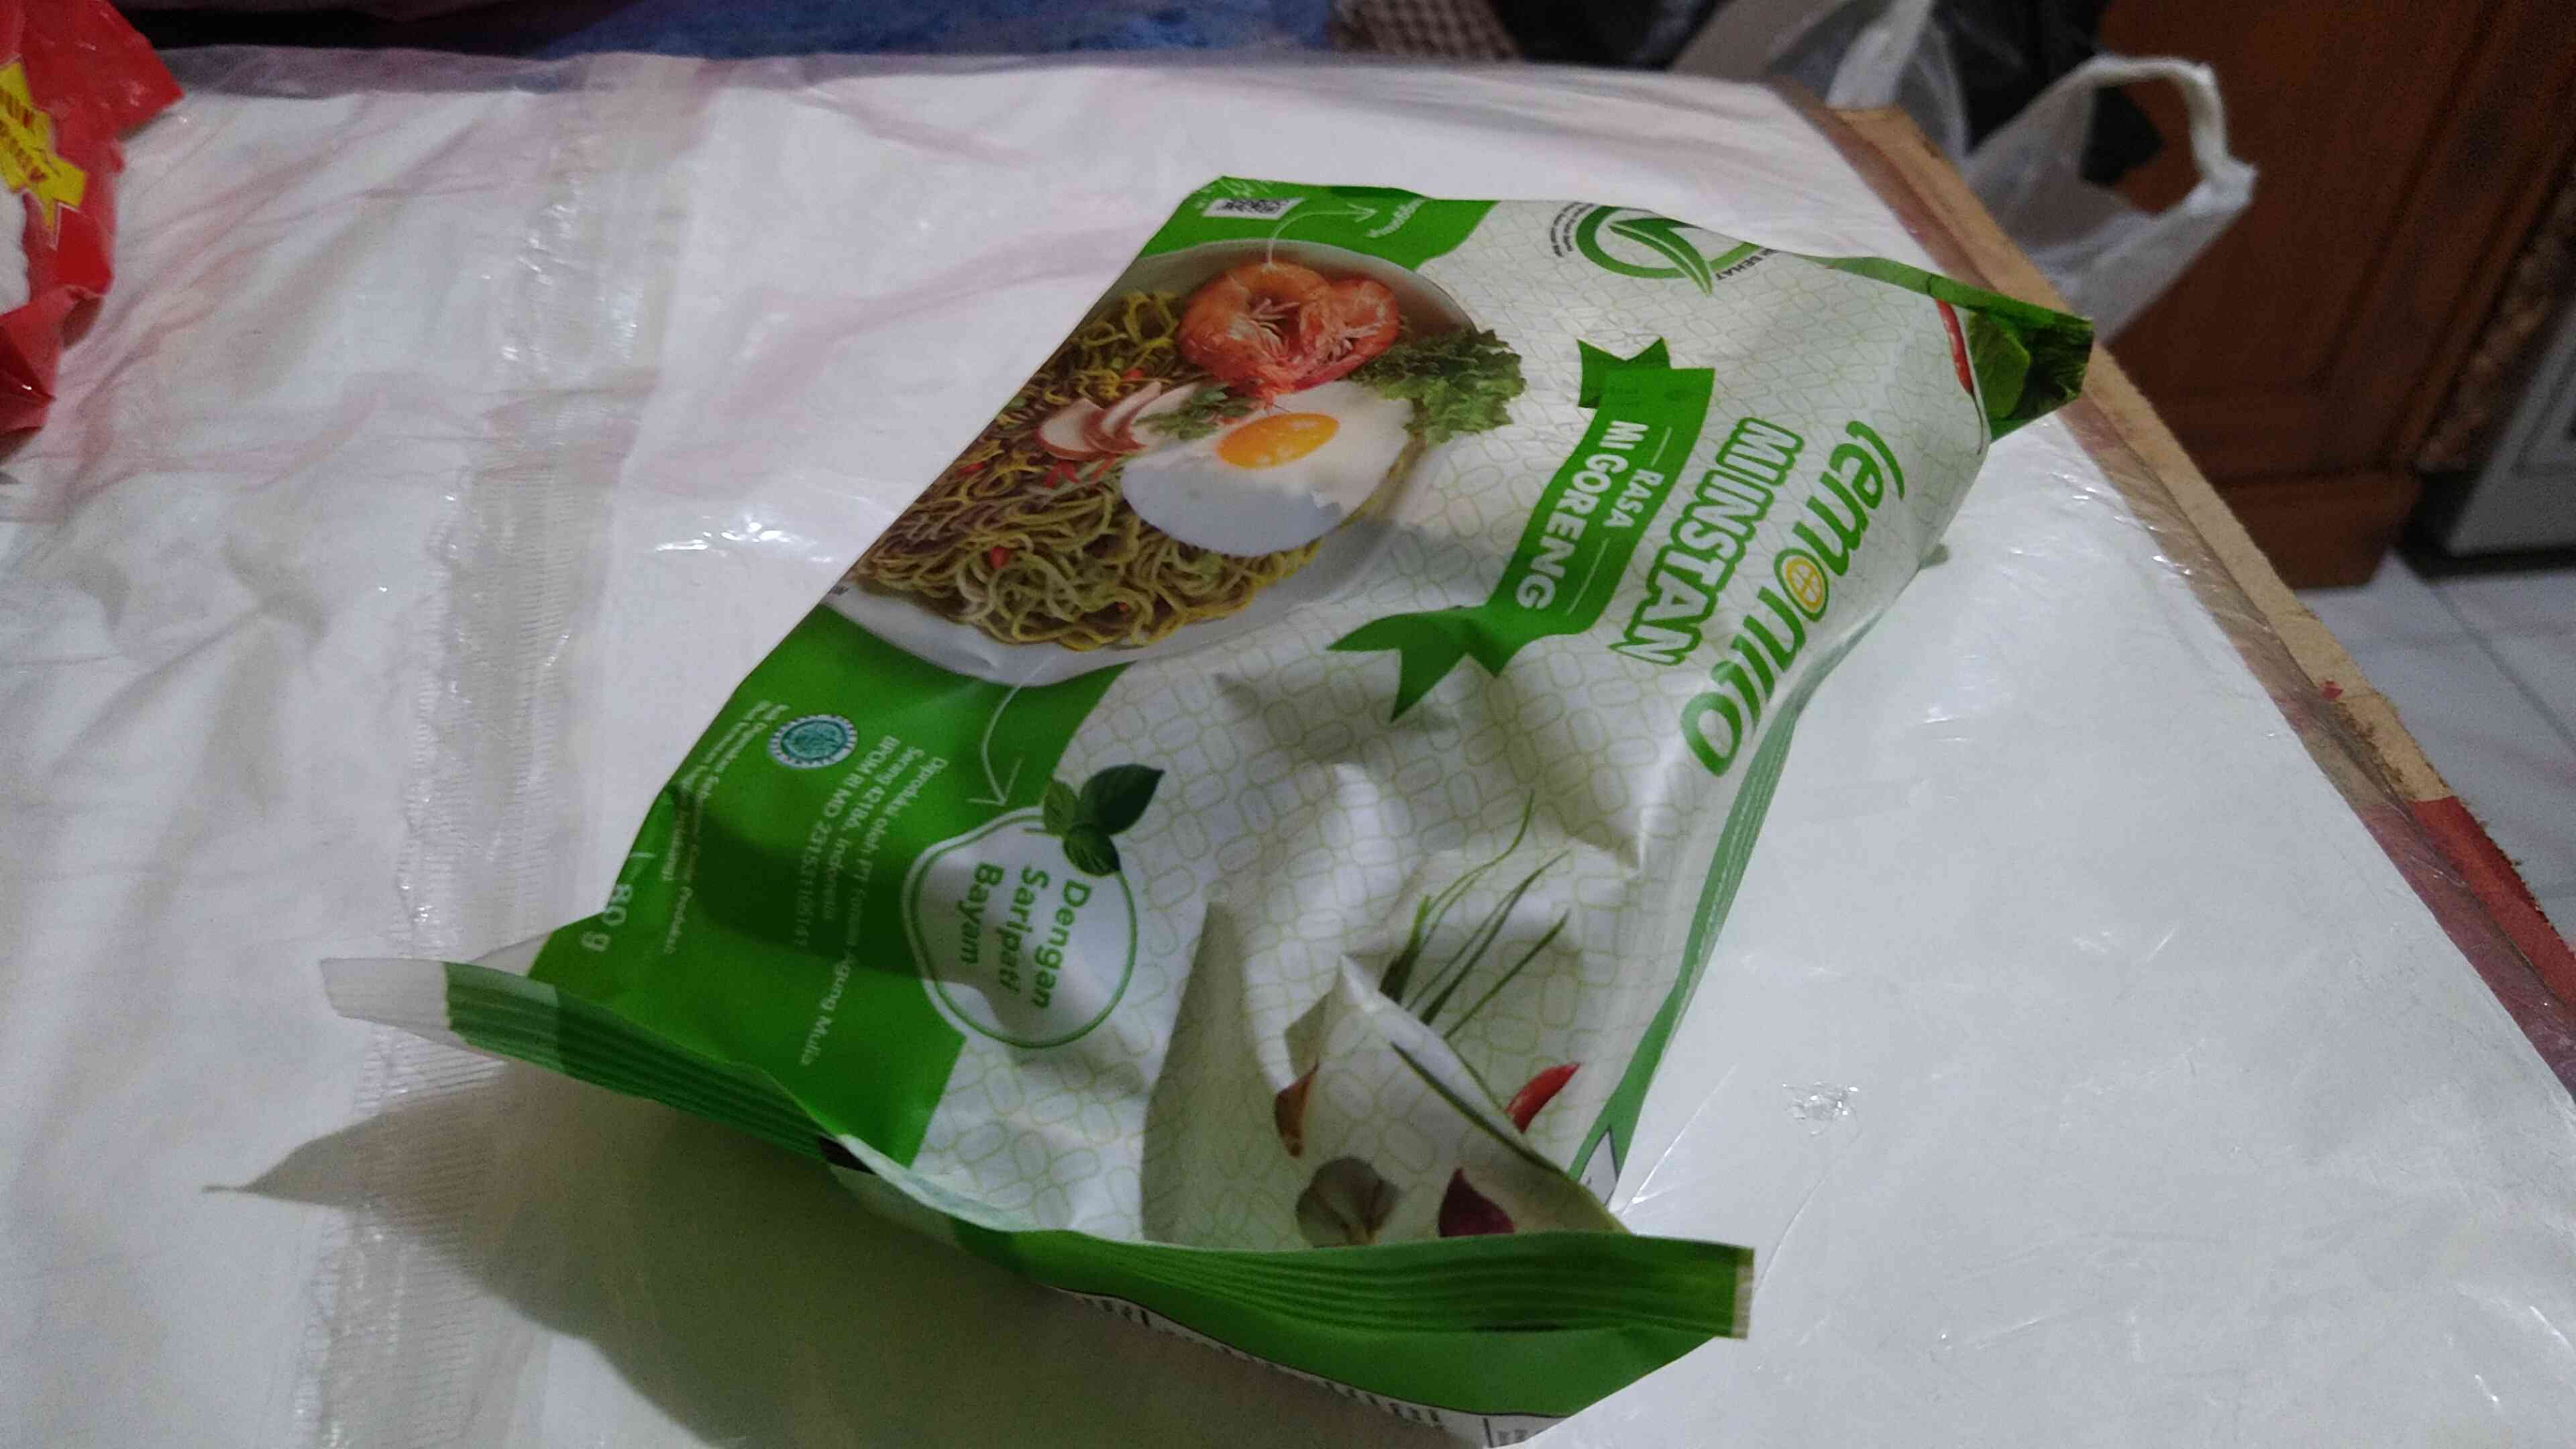lemonilo: (485, 138, 2157, 1368)
